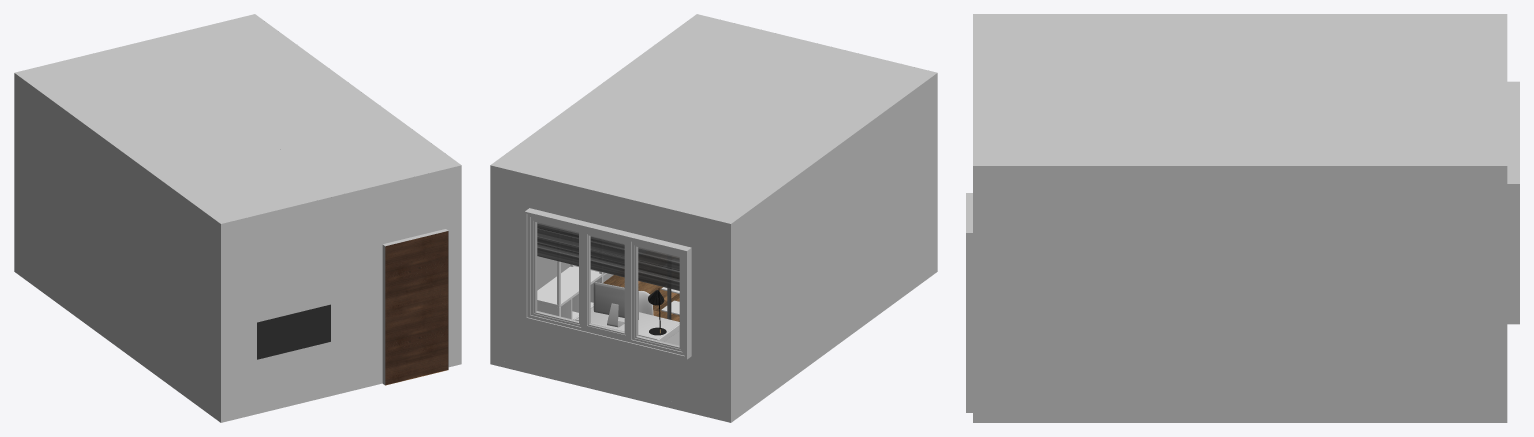
File: Room2.gltf
3 renders of one model, left to right at view 1: azimuth 30°, elevation 25°; view 2: azimuth 150°, elevation 25°; view 3: azimuth 270°, elevation 25°, orthographic. The views are drawn at different scales.
Parts seen in each view (by area): view 1: Room, Interior_1; view 2: Room, Interior_2, Curtain; view 3: Room.
Boxes of the visible parts, box(x1,y1,x2,y2) form: Room: box(14, 14, 461, 422); Interior_1: box(257, 304, 330, 359); Room: box(490, 14, 937, 422); Interior_2: box(537, 261, 679, 345); Curtain: box(537, 222, 679, 290); Room: box(966, 14, 1519, 422).
Bounding box in the file's own units: 3.8 × 3 × 5.86.
70 materials, 19 textured.
